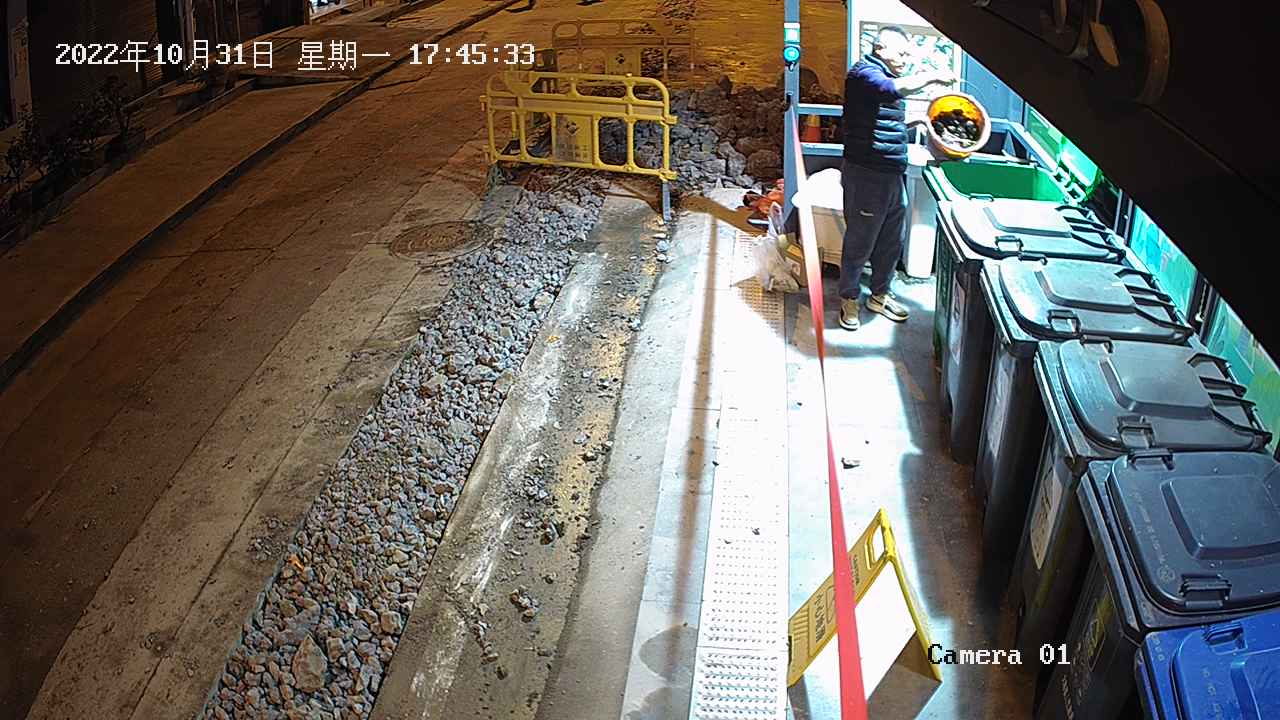garbage-bag: (752, 199, 803, 296)
person: (836, 23, 958, 332)
youtong: (924, 77, 993, 163)
